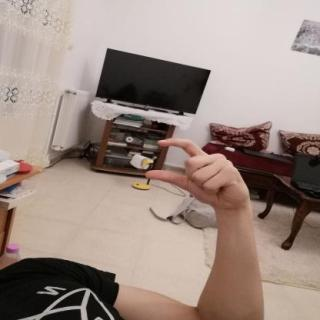DELL: (138, 133, 258, 214)
